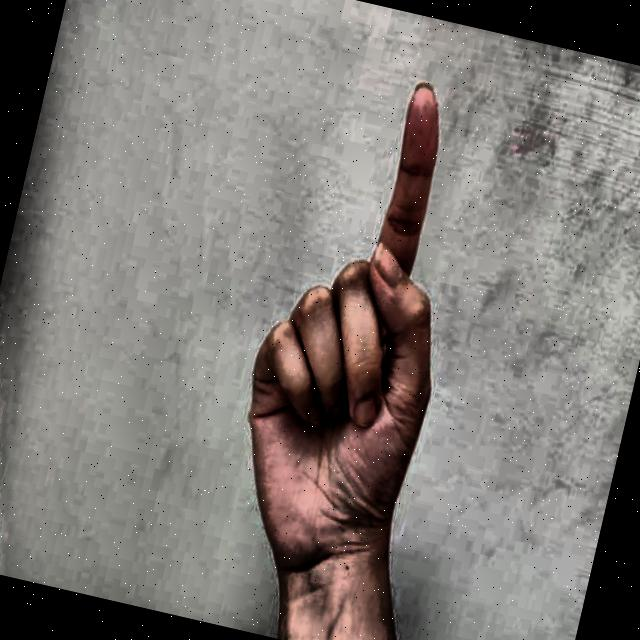U: (191, 28, 528, 610)
